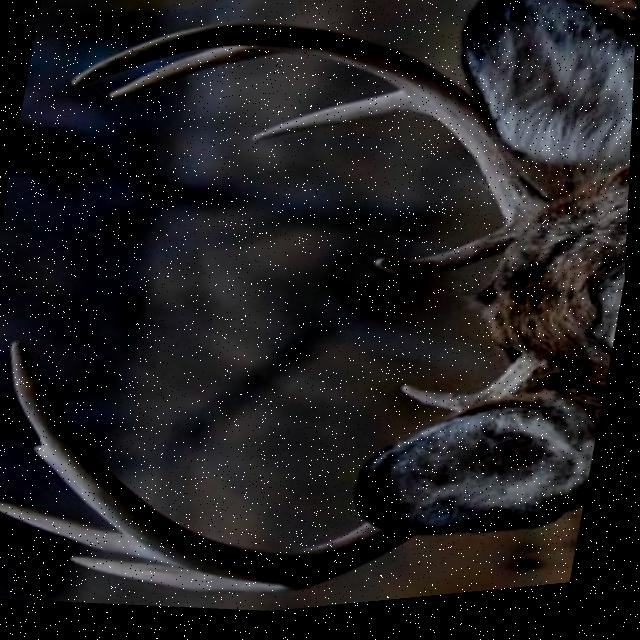L-G1: (403, 392, 480, 421)
L-G2: (70, 556, 305, 599)
L-G3: (0, 500, 179, 569)
R-F: (70, 26, 549, 248)
R-G1: (375, 236, 520, 284)
R-G2: (252, 97, 427, 146)
